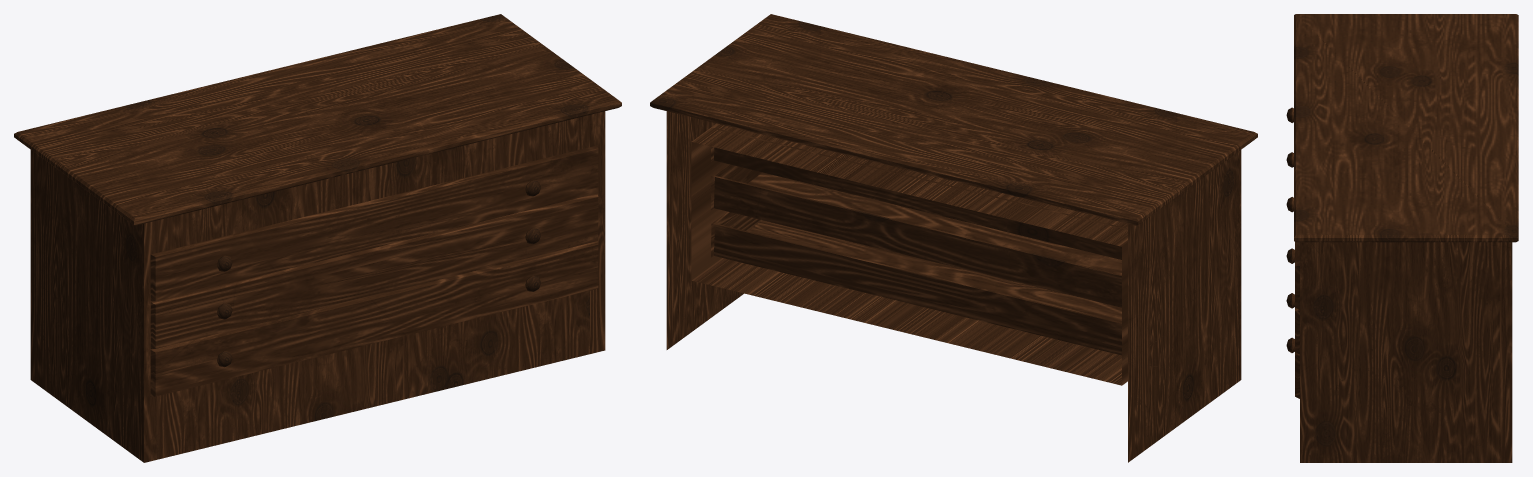
The model's file is Комод2.fbx.
The picture shows the model from 3 angles, left to right: view 1: azimuth 30°, elevation 25°; view 2: azimuth 150°, elevation 25°; view 3: azimuth 270°, elevation 25°; orthographic projection. The views are drawn at different scales.
Visible parts, largest first — view 1: Комод2, Комод2_Ящик.001, Комод2_Ящик, Комод2_Ящик.002; view 2: Комод2, Комод2_Ящик.002, Комод2_Ящик, Комод2_Ящик.001; view 3: Комод2, Комод2_Ящик.001, Комод2_Ящик.002, Комод2_Ящик.
Boxes of the visible parts, x1,y1,x2,y2 form: Комод2: [14, 14, 621, 462]; Комод2_Ящик.001: [150, 145, 598, 301]; Комод2_Ящик: [150, 241, 598, 396]; Комод2_Ящик.002: [150, 193, 598, 348]; Комод2: [650, 14, 1257, 462]; Комод2_Ящик.002: [711, 164, 1121, 307]; Комод2_Ящик: [711, 211, 1121, 355]; Комод2_Ящик.001: [711, 123, 1127, 259]; Комод2: [1294, 14, 1518, 462]; Комод2_Ящик.001: [1286, 107, 1299, 309]; Комод2_Ящик.002: [1286, 152, 1299, 354]; Комод2_Ящик: [1286, 197, 1299, 398].
Size of the model in its own units: 93.1 by 212 by 103.
